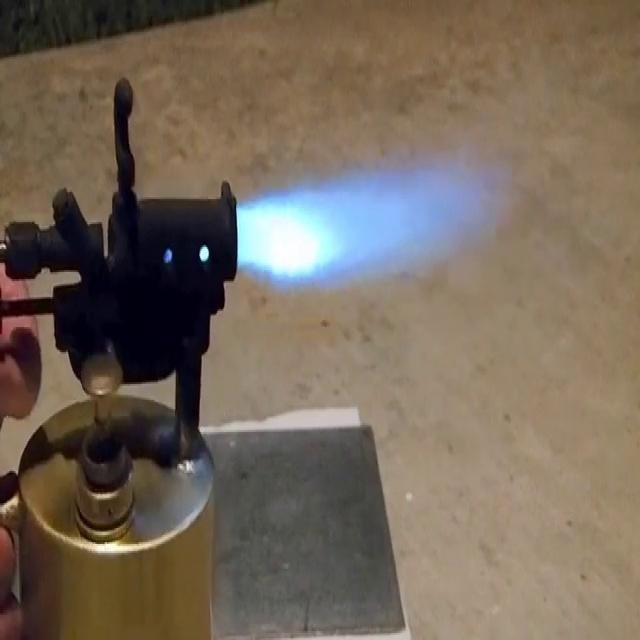fire: (234, 148, 530, 295)
